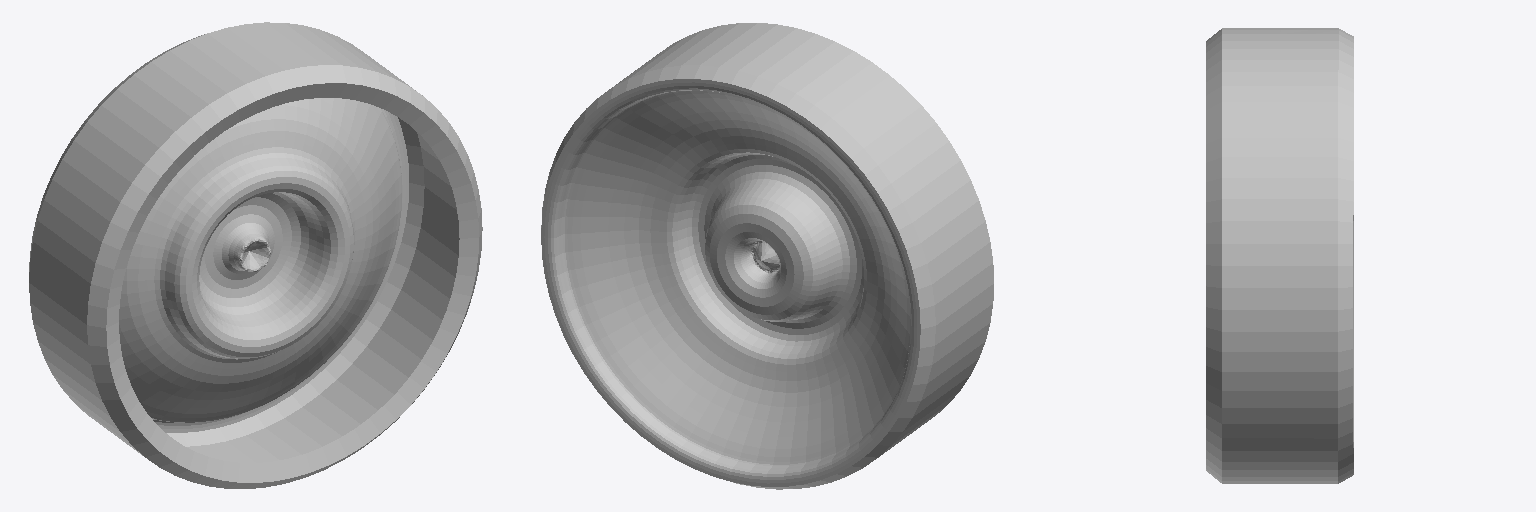
Rendered from wheel_front_right.obj.
3 renders of one model, left to right at view 1: azimuth 30°, elevation 25°; view 2: azimuth 150°, elevation 25°; view 3: azimuth 270°, elevation 25°, orthographic.
Visible parts, largest first — view 1: wheel_front_right; view 2: wheel_front_right; view 3: wheel_front_right.
Part boxes in pixels (x1,y1,x2,y2): wheel_front_right: (29,22,482,488); wheel_front_right: (541,23,993,489); wheel_front_right: (1206,28,1353,483).
Size of the model in its own units: 1.36 by 1.35 by 0.4415.